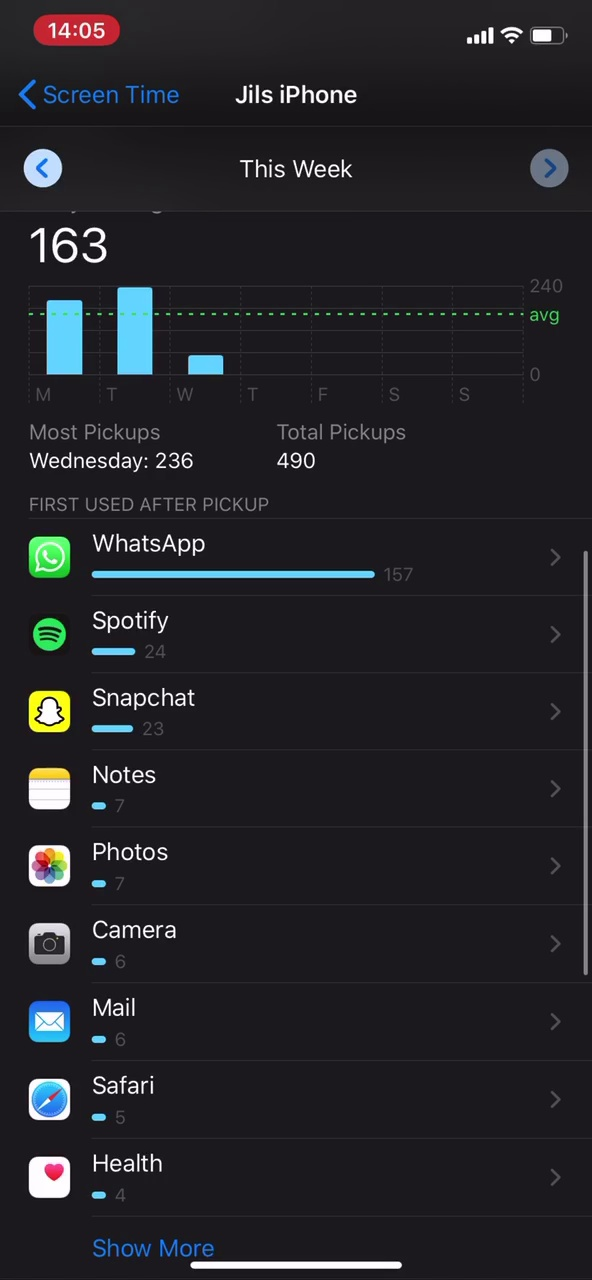pick_app: (25, 527, 417, 602), (17, 675, 214, 749), (23, 908, 198, 975), (18, 1142, 193, 1208), (25, 838, 209, 900), (23, 758, 192, 822), (26, 605, 203, 666), (22, 992, 161, 1057), (20, 1069, 164, 1130)
pick_over: (17, 414, 451, 486)
week: (227, 152, 370, 181)
